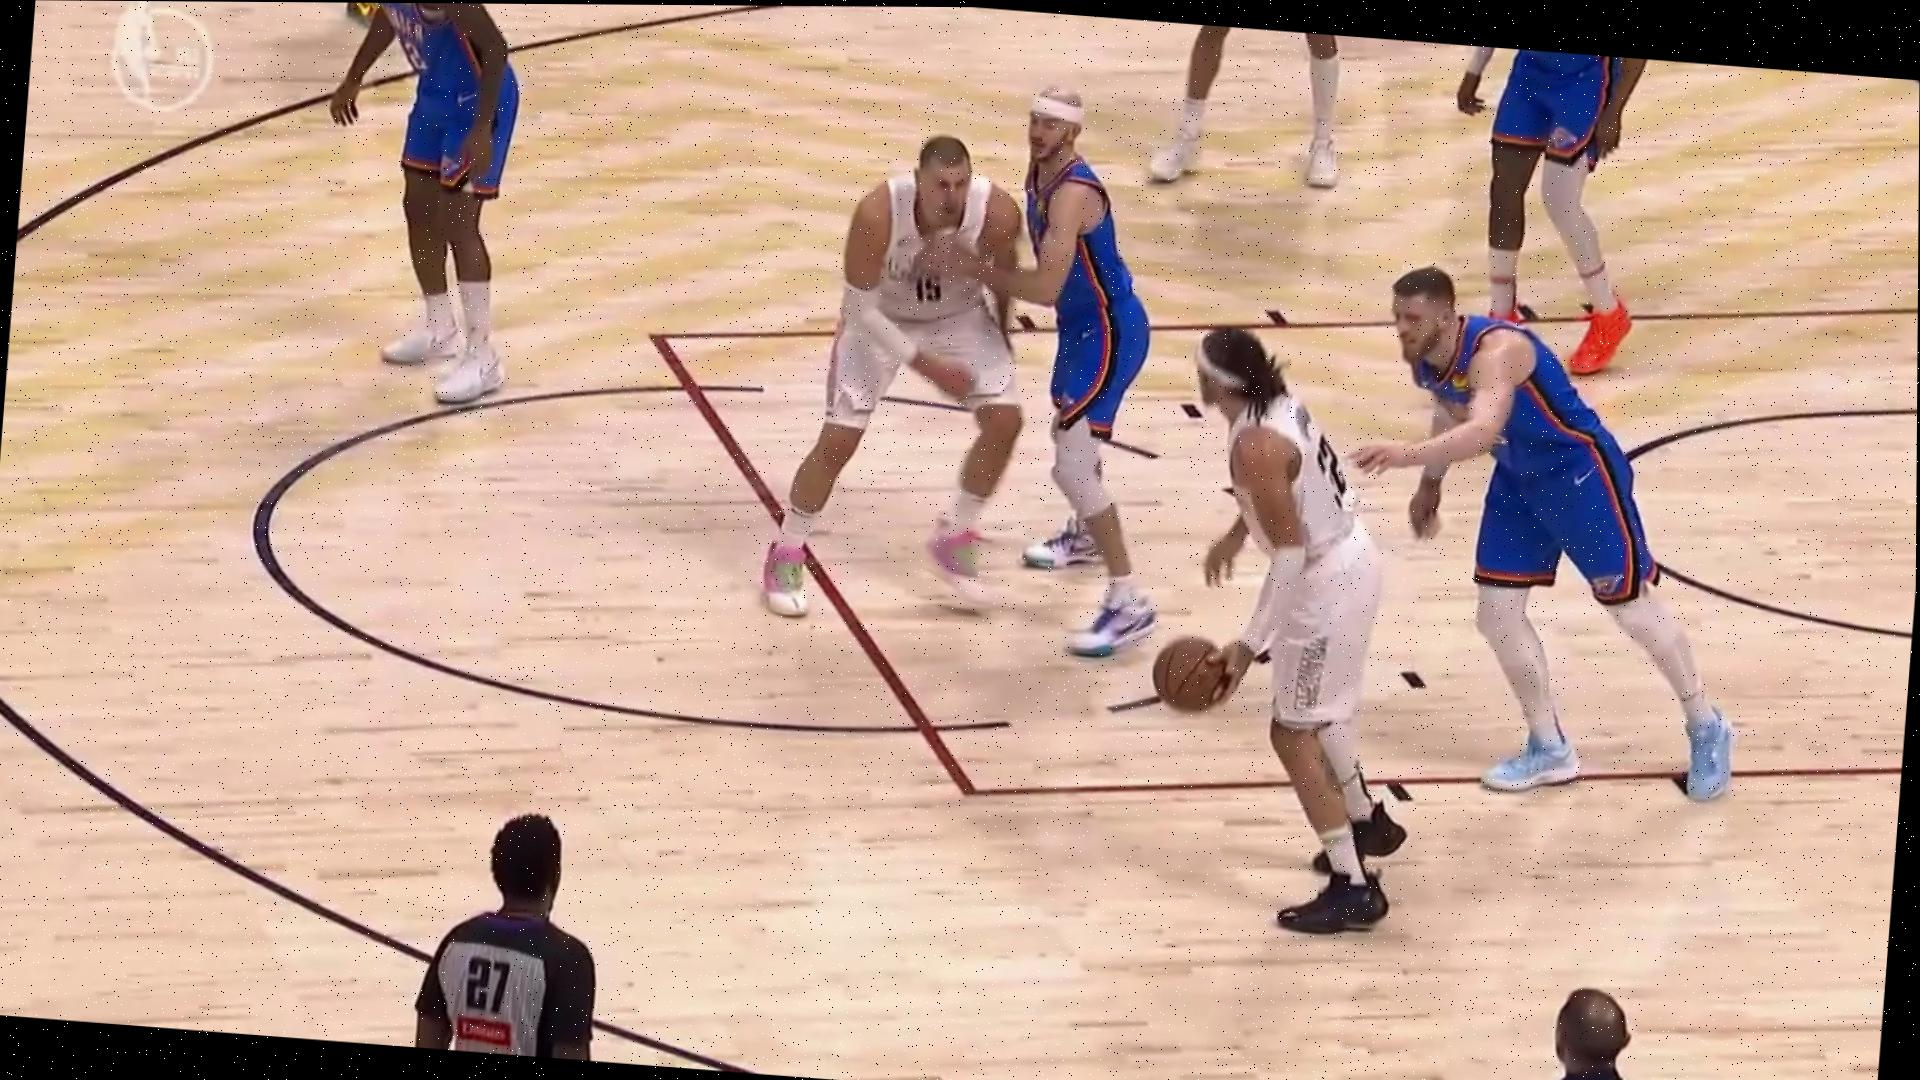no_foul: (741, 44, 1207, 683)
